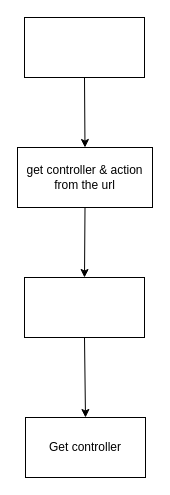
Image size: 170x495. Some labels were removed from this diagram. Here are the shapes that lost their labels. From the top down, the centre of each, then its label:
At (x=84, y=47): "autoload classes".
At (x=84, y=307): "Bootstrap".
